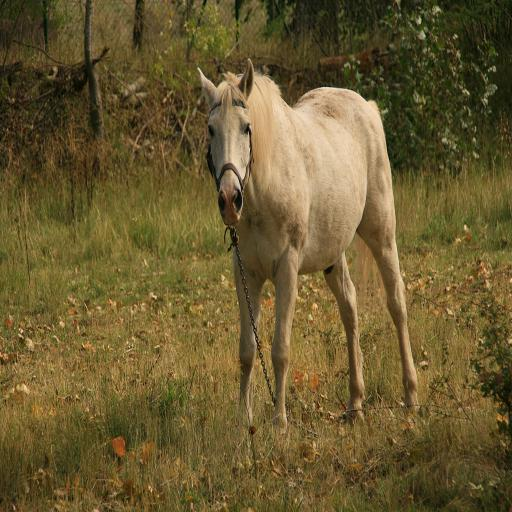horse: (188, 56, 422, 441)
